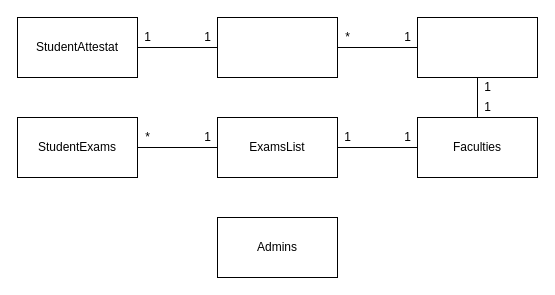
Image size: 555x295. Some labels were removed from this diagram. Here are the shapes that lost their labels. From the top down, the centre of each, then its label:
At point 277,47: "Students".
At point 477,47: "FacultyStudents".
